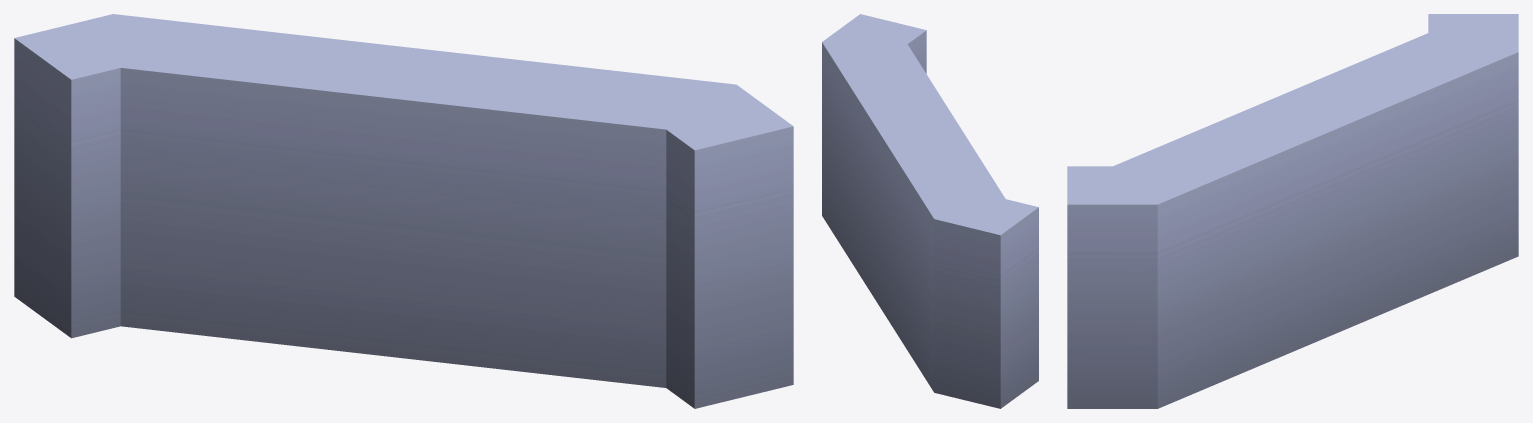
Rendered from wall-diagonal-low.glb.
3 renders of one model, left to right at view 1: azimuth 30°, elevation 25°; view 2: azimuth 150°, elevation 25°; view 3: azimuth 270°, elevation 25°, orthographic. The views are drawn at different scales.
Visible parts, largest first — view 1: wall-diagonal-low; view 2: wall-diagonal-low; view 3: wall-diagonal-low.
Part boxes in pixels (bbox=[...]): wall-diagonal-low: bbox=[14, 14, 793, 408]; wall-diagonal-low: bbox=[822, 14, 1038, 408]; wall-diagonal-low: bbox=[1067, 14, 1518, 408].
Size of the model in its own units: 1 by 0.5 by 1.
1 material, 1 textured.
